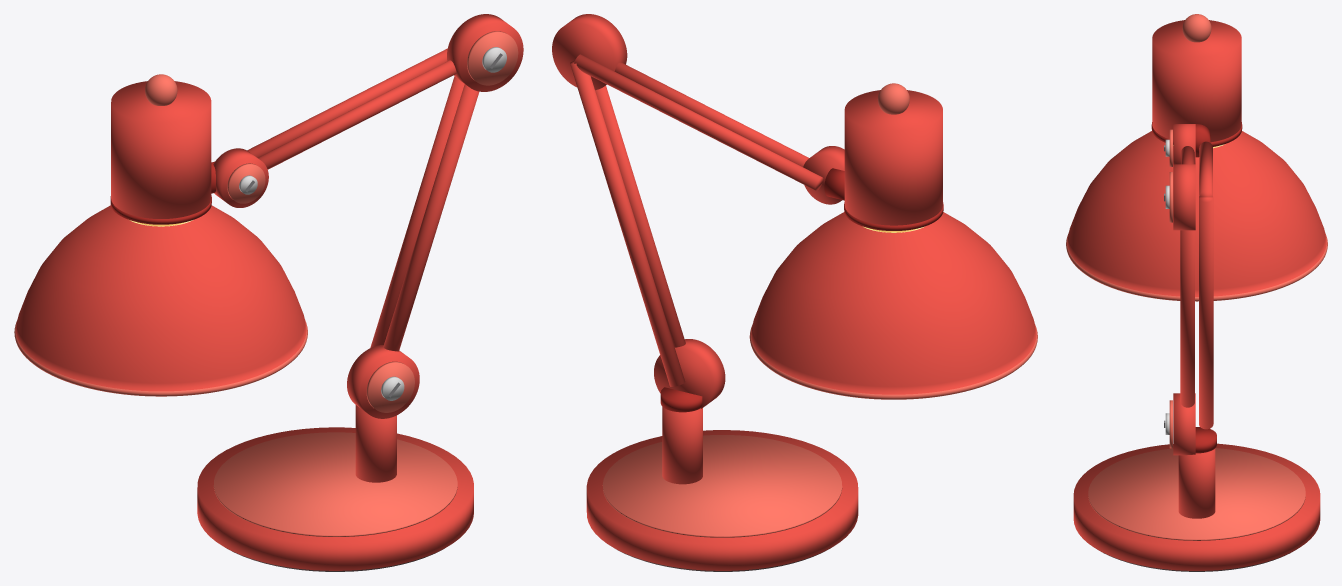
The model's file is red table lamp.glb.
3 renders of one model, left to right at view 1: azimuth 30°, elevation 25°; view 2: azimuth 150°, elevation 25°; view 3: azimuth 270°, elevation 25°, orthographic. The views are drawn at different scales.
Parts seen in each view (by area): view 1: Large glossy red dome lampshade, Base top surface accent, Large circular red lamp base, Lamp head upper cylinder, Lower articulated arm, Lower articulated arm.001, Upper articulated arm, Vertical red support, Upper articulated arm.001, Top hinge outer red circular housing, Bottom hinge outer red circular housing, Smooth red lampshade bottom lip (+6 smaller); view 2: Large glossy red dome lampshade, Base top surface accent, Large circular red lamp base, Lamp head upper cylinder, Lower articulated arm.001, Upper articulated arm.001, Top hinge outer red circular housing, Lower articulated arm, Vertical red support, Bottom hinge outer red circular housing, Upper articulated arm, Smooth red lampshade bottom lip (+4 smaller); view 3: Large glossy red dome lampshade, Base top surface accent, Large circular red lamp base, Lamp head upper cylinder, Lower articulated arm.001, Lower articulated arm, Vertical red support, Top hinge outer red circular housing, Smooth red lampshade bottom lip, Bottom hinge outer red circular housing, Upper articulated arm.001, Head hinge outer red circular housing (+3 smaller).
Part boxes in pixels (<box>): Large glossy red dome lampshade: <box>16,205,306,391</box>; Base top surface accent: <box>213,432,457,536</box>; Large circular red lamp base: <box>197,427,473,570</box>; Lamp head upper cylinder: <box>111,81,211,218</box>; Lower articulated arm: <box>383,84,479,351</box>; Lower articulated arm.001: <box>370,76,464,347</box>; Upper articulated arm: <box>258,60,456,169</box>; Vertical red support: <box>355,405,396,482</box>; Upper articulated arm.001: <box>247,48,447,157</box>; Top hinge outer red circular housing: <box>447,14,523,91</box>; Bottom hinge outer red circular housing: <box>347,345,419,418</box>; Smooth red lampshade bottom lip: <box>14,319,307,396</box>; Large glossy red dome lampshade: <box>751,212,1036,394</box>; Base top surface accent: <box>602,435,842,537</box>; Large circular red lamp base: <box>586,430,858,570</box>; Lamp head upper cylinder: <box>844,90,942,225</box>; Lower articulated arm.001: <box>570,60,685,386</box>; Upper articulated arm.001: <box>574,54,823,190</box>; Top hinge outer red circular housing: <box>552,14,627,90</box>; Lower articulated arm: <box>595,85,685,347</box>; Vertical red support: <box>662,407,702,484</box>; Bottom hinge outer red circular housing: <box>654,339,725,408</box>; Upper articulated arm: <box>614,62,808,166</box>; Smooth red lampshade bottom lip: <box>749,324,1037,399</box>; Large glossy red dome lampshade: <box>1067,131,1326,296</box>; Base top surface accent: <box>1088,448,1305,540</box>; Large circular red lamp base: <box>1073,443,1320,570</box>; Lamp head upper cylinder: <box>1152,20,1241,142</box>; Lower articulated arm.001: <box>1199,195,1213,429</box>; Lower articulated arm: <box>1180,230,1194,407</box>; Vertical red support: <box>1178,448,1215,518</box>; Top hinge outer red circular housing: <box>1173,164,1195,230</box>; Smooth red lampshade bottom lip: <box>1066,233,1327,301</box>; Bottom hinge outer red circular housing: <box>1173,393,1195,455</box>; Upper articulated arm.001: <box>1199,141,1212,197</box>; Head hinge outer red circular housing: <box>1173,124,1195,164</box>.
Size of what is drawn, in the model's own units: 5.05 by 4.88 by 2.7.
